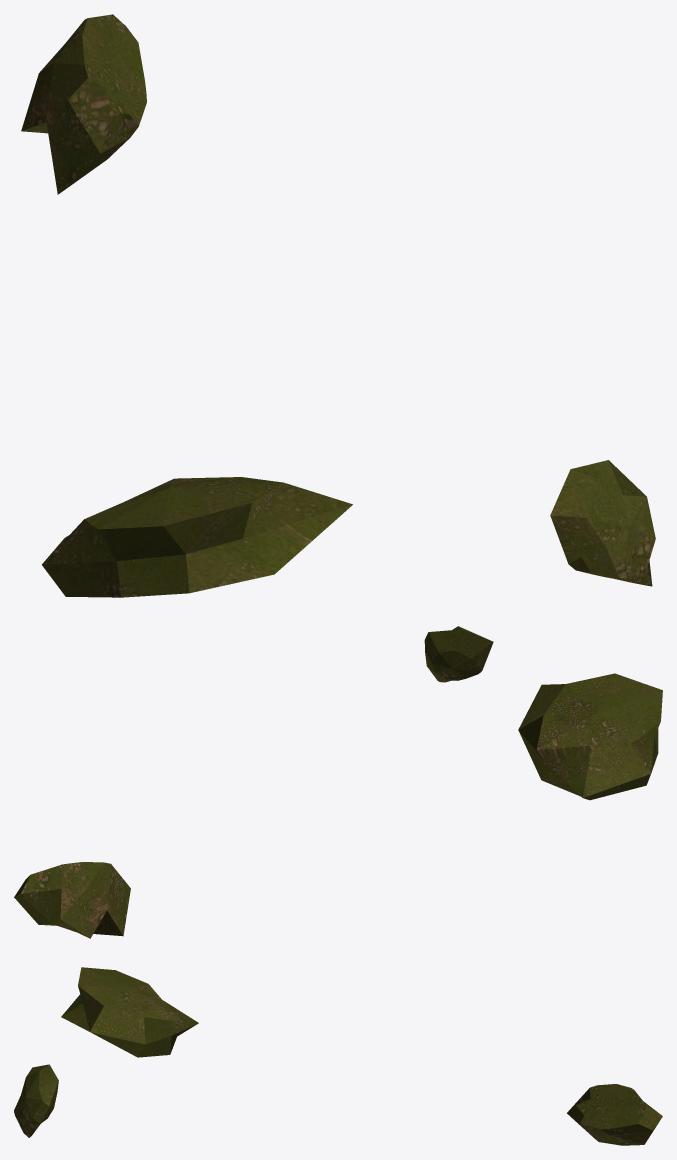
Rendered from scree_1.glb.
3 renders of one model, top to bottom at view 1: azimuth 30°, elevation 25°; view 2: azimuth 150°, elevation 25°; view 3: azimuth 270°, elevation 25°, orthographic. The views are drawn at different scales.
Visible parts, largest first — view 1: scree; view 2: scree; view 3: scree.
Part boxes in pixels (x1,y1,x2,y2): scree: [21, 14, 655, 597]; scree: [14, 626, 662, 938]; scree: [14, 967, 662, 1145].
Bounding box in the file's own units: 1.41 × 0.3421 × 2.71.
Materials: 1 (1 with a texture image).
